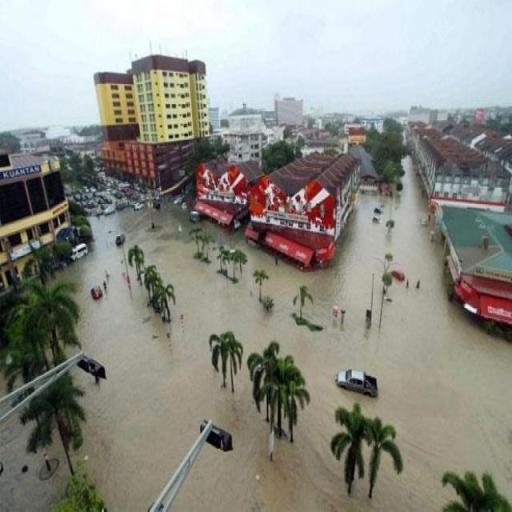flood: (70, 169, 512, 512), (0, 414, 67, 512)
house: (98, 52, 210, 197), (255, 150, 363, 265), (436, 204, 512, 326), (0, 152, 72, 262), (412, 124, 512, 202), (229, 115, 262, 164)
